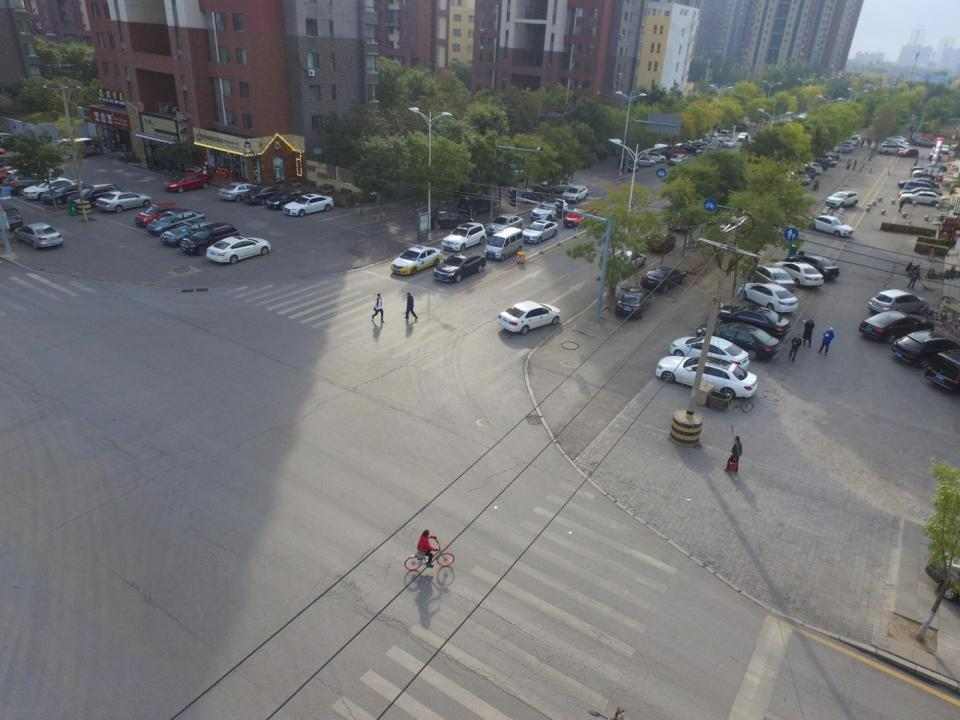car: (657, 354, 758, 398), (698, 320, 781, 362), (672, 335, 750, 370), (857, 310, 935, 344), (893, 331, 959, 370), (715, 304, 790, 338), (496, 298, 560, 335), (736, 280, 799, 312), (178, 225, 240, 255), (205, 236, 271, 264), (431, 252, 487, 284), (773, 256, 825, 288), (390, 246, 440, 277), (146, 208, 205, 234), (867, 291, 930, 315), (160, 220, 218, 246), (925, 350, 958, 393), (68, 182, 122, 207), (750, 266, 798, 294), (23, 177, 83, 199), (16, 222, 62, 250), (640, 264, 686, 292), (442, 222, 486, 251), (786, 254, 838, 278), (93, 192, 154, 212), (41, 182, 96, 204), (4, 173, 56, 196), (614, 286, 651, 318), (806, 214, 855, 238), (136, 202, 181, 227), (283, 195, 333, 216), (266, 188, 316, 209), (428, 209, 474, 231), (163, 171, 211, 192), (0, 160, 40, 185), (242, 184, 288, 205), (608, 249, 646, 274), (219, 180, 261, 202), (531, 197, 566, 223), (520, 220, 557, 244), (562, 205, 597, 229), (458, 195, 496, 216), (899, 190, 945, 207), (487, 215, 524, 235), (898, 178, 940, 195), (669, 208, 698, 232), (904, 181, 941, 199), (824, 191, 860, 209), (0, 202, 22, 230), (899, 188, 943, 202), (44, 138, 80, 155), (646, 232, 676, 252), (561, 183, 588, 204), (540, 178, 574, 194), (877, 143, 907, 157), (522, 186, 544, 204), (789, 169, 810, 185), (641, 151, 665, 164), (648, 148, 674, 160), (796, 164, 817, 178), (631, 155, 655, 167), (619, 158, 638, 172), (913, 137, 937, 148), (832, 141, 852, 154), (673, 142, 696, 153), (669, 154, 690, 166), (706, 140, 724, 154), (804, 161, 822, 175), (824, 144, 842, 158), (898, 148, 920, 159), (813, 155, 828, 170), (664, 146, 686, 156), (681, 140, 705, 149), (818, 154, 836, 166), (722, 138, 737, 149), (736, 131, 751, 142), (710, 134, 726, 144), (930, 147, 942, 159), (719, 129, 732, 139), (851, 133, 863, 143), (703, 133, 718, 140), (939, 145, 949, 155)
van: (486, 227, 523, 261), (67, 137, 100, 160)
